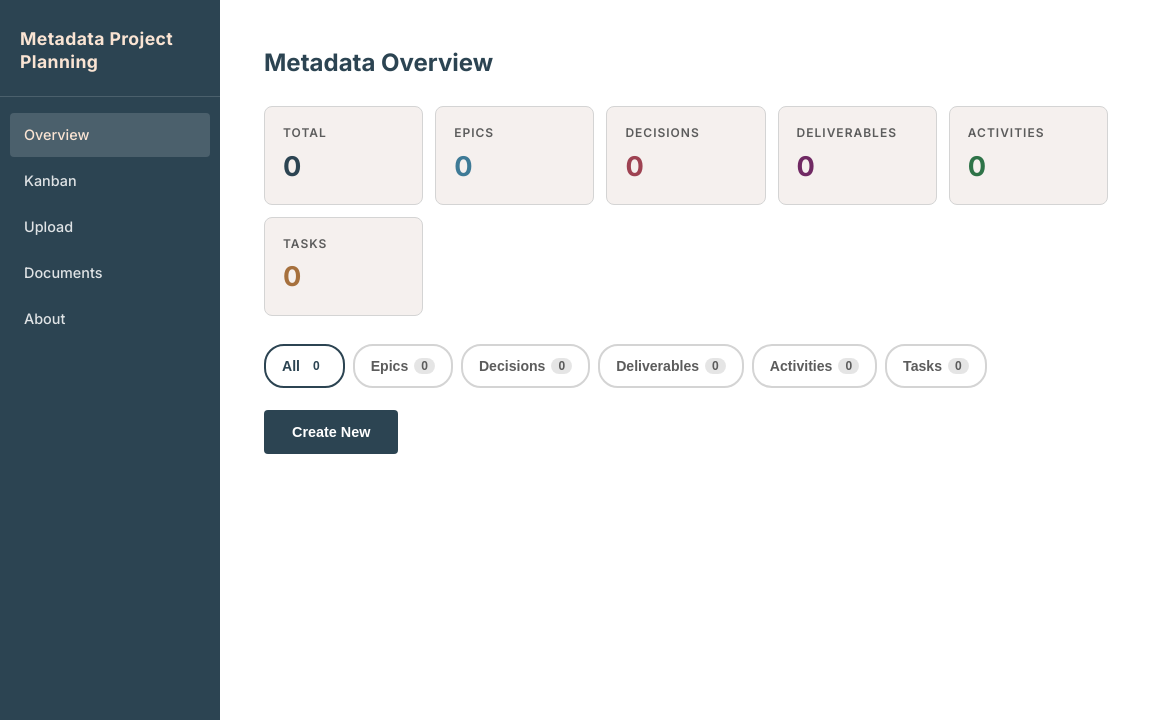
it: Navigation › should navigate between all pages
The image size is (1152, 720).
Expected: the heading "Metadata Overview" is shown, [264, 48, 493, 77]
Note: Navigate to Kanban
Click the link "Kanban". click: x=51, y=181
box: [24, 172, 77, 189]
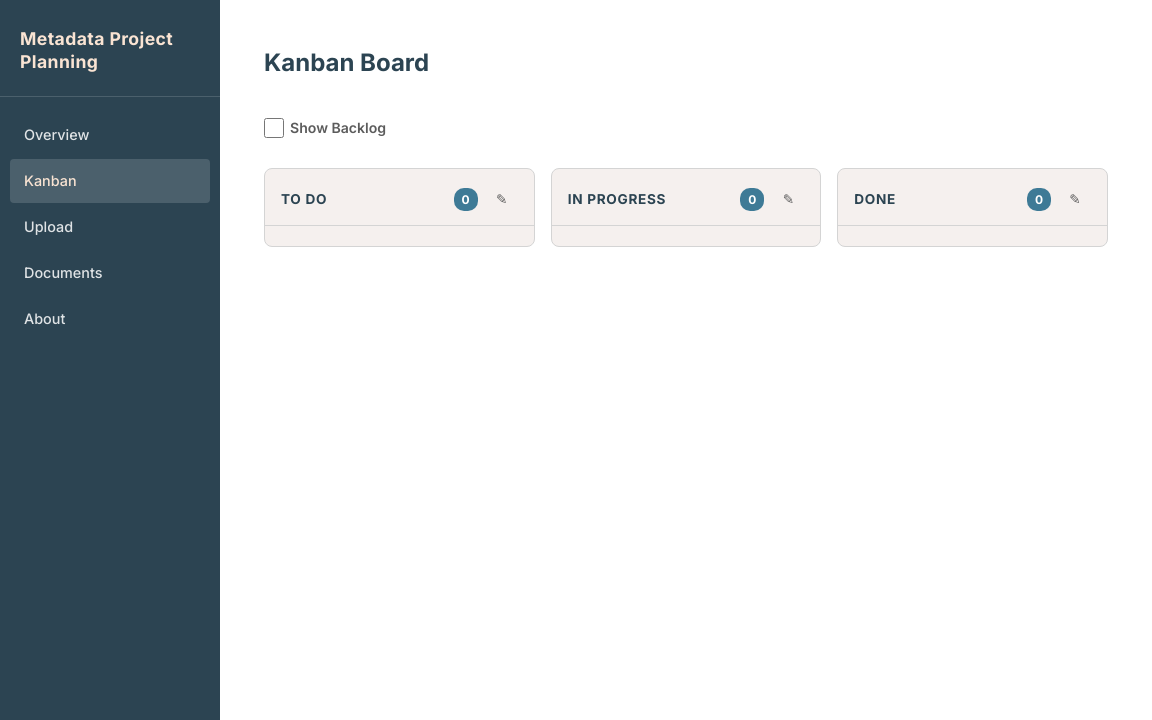
Expected: the heading "Kanban Board" is shown, [264, 48, 429, 77]
Note: Navigate to Upload
Click the link "Upload". click: x=49, y=227
box: [24, 218, 73, 235]
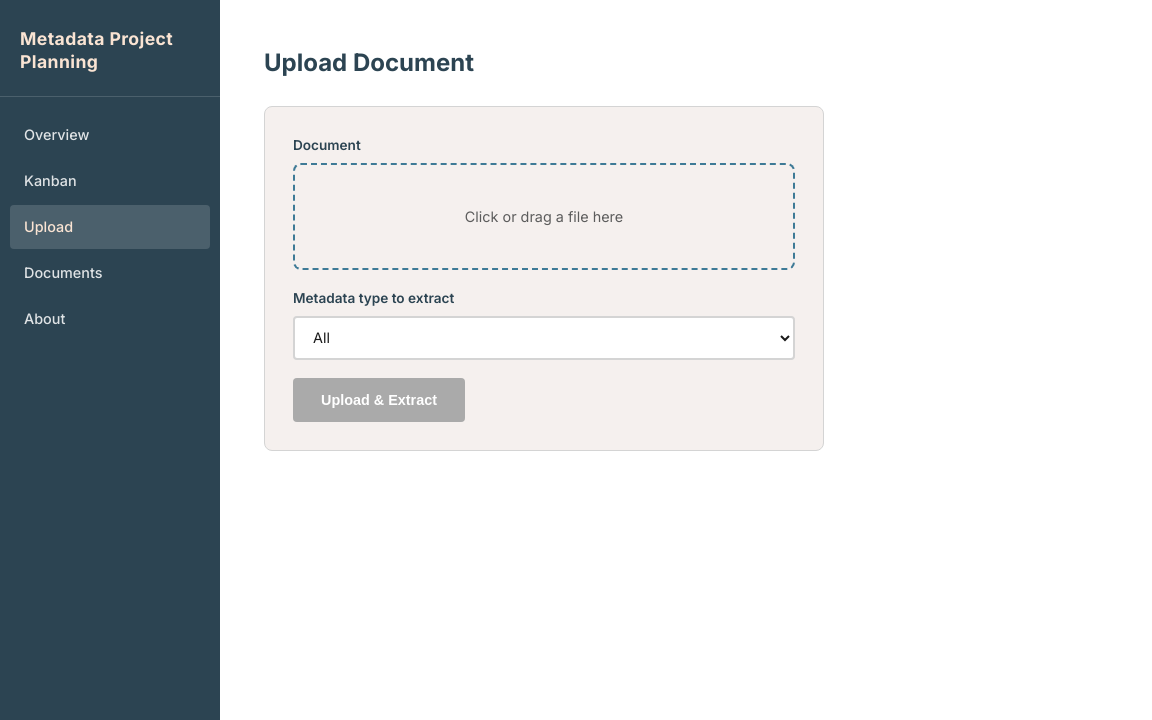
Expected: the heading "Upload Document" is shown, [264, 48, 474, 77]
Note: Navigate to Documents
Click the link "Documents". click: x=64, y=273
box: [24, 264, 103, 281]
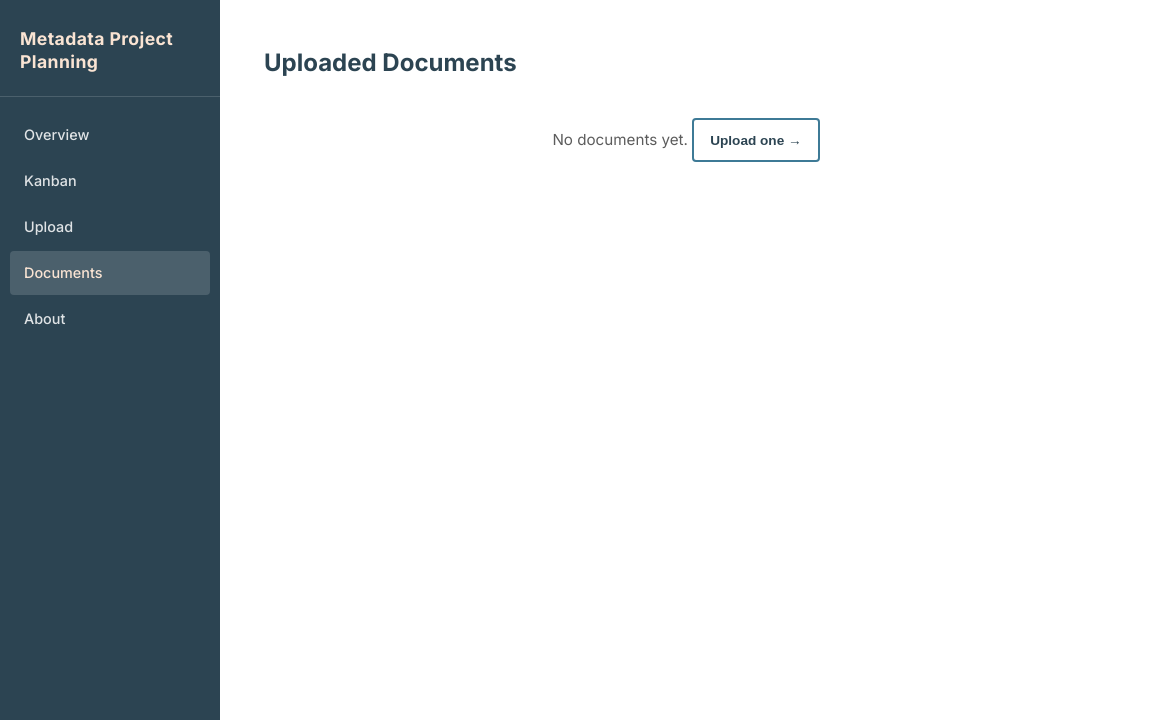
Expected: the heading "Uploaded Documents" is shown, [264, 48, 517, 77]
Note: Navigate to About
Click the link "About". click: x=45, y=319
box: [24, 310, 65, 327]
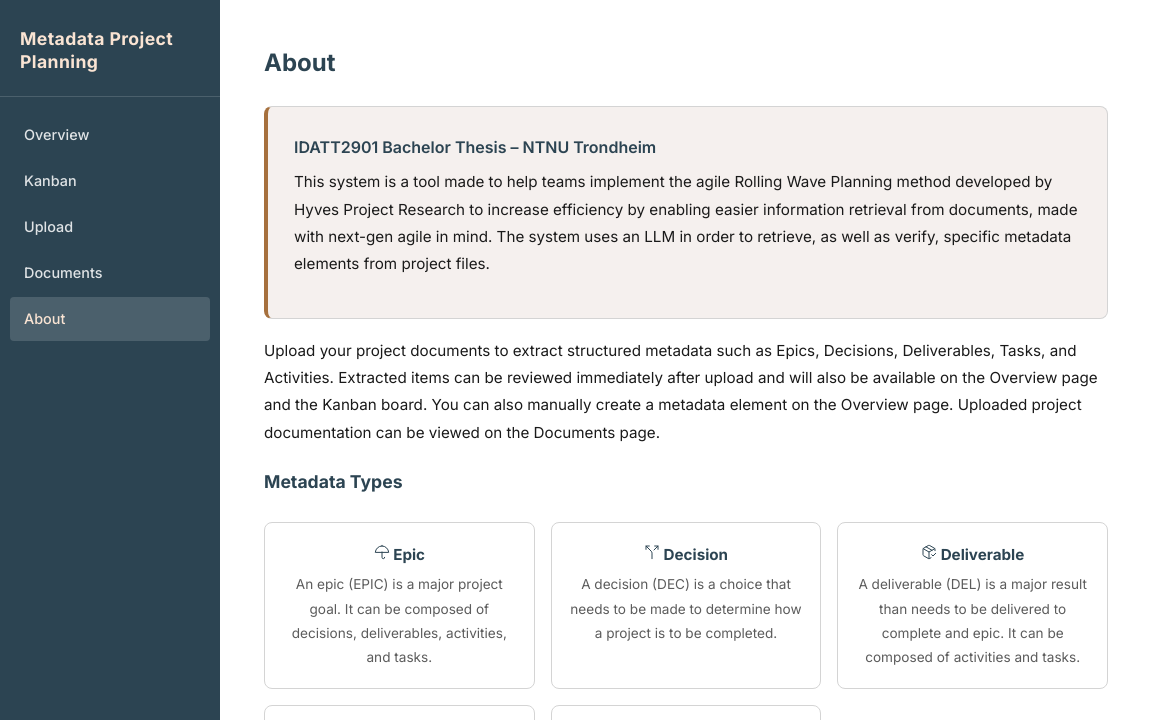
Expected: the heading "About" is shown, [264, 48, 336, 77]
